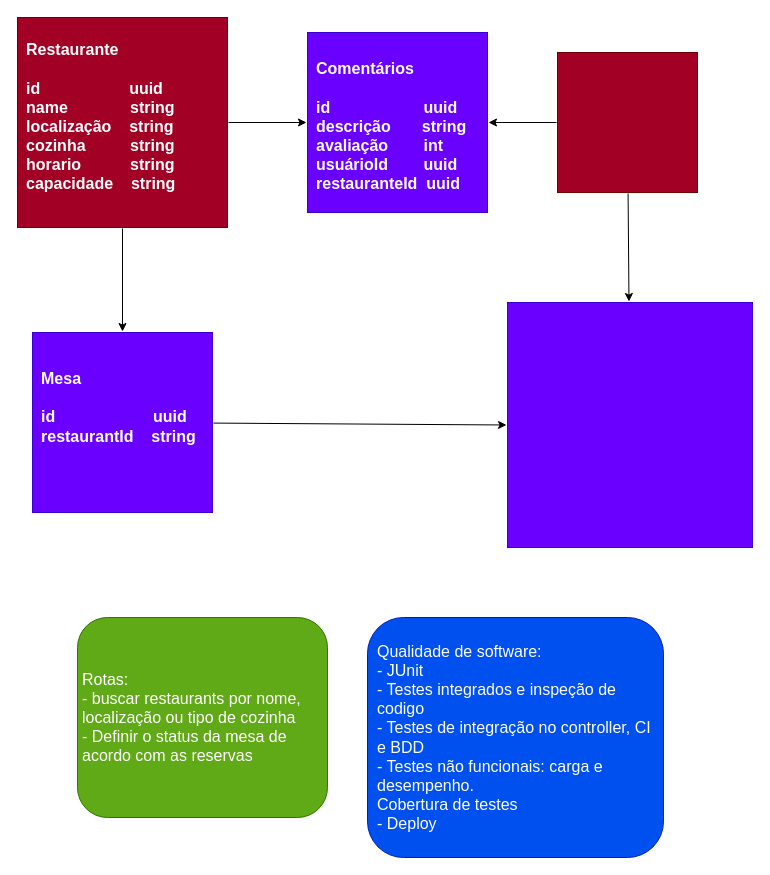
This 770x875 diagram has some shape labels left out. The shapes that lost their labels are listed below. From the top down, each one's box as (x1, y1, x2, y2) in pixels, then its label:
(556, 52, 698, 192): Usuário id uuid name string
(506, 302, 752, 548): Reserva id uuid timestamp localDateTime mesaId uuid usuárioId uuid
